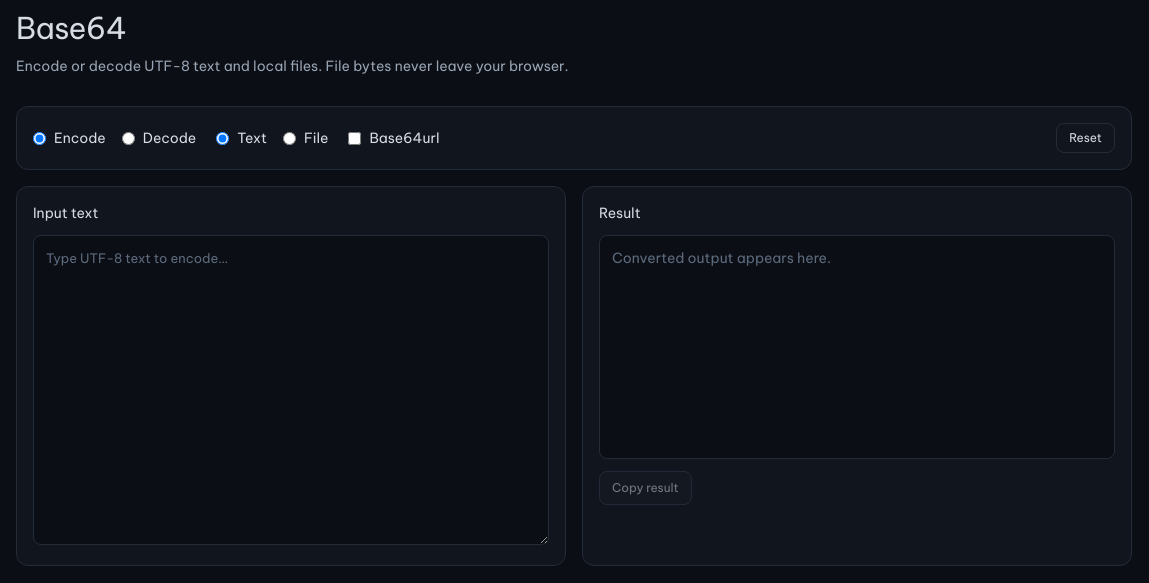
Test: Base64 tool › announces invalid text input and can reset
Click the radio button labelled "Decode".
click(128, 138)  # box [122, 132, 135, 144]
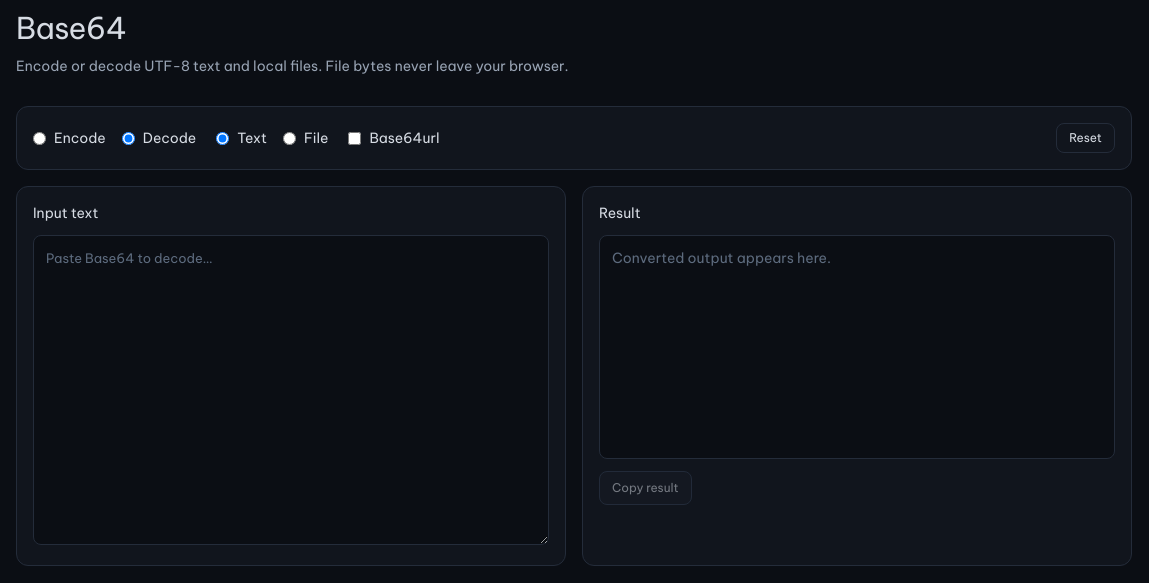
Type "%%%" into the text box named "Input text".
click(291, 390); type("%%%")  # box [33, 235, 549, 545]
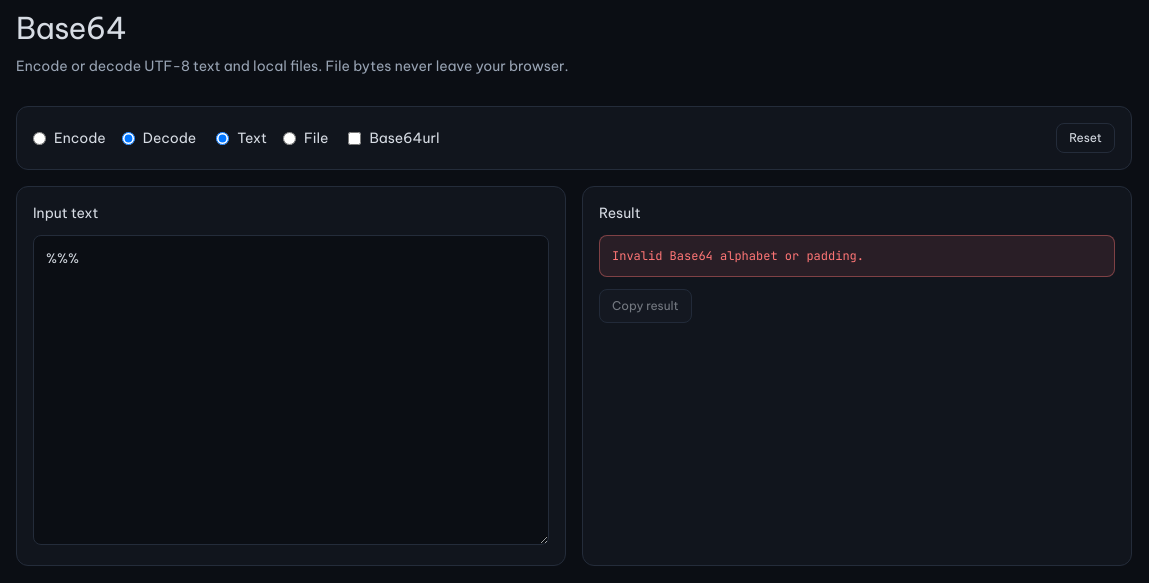
Expected: the message shows "Base64", [612, 248, 864, 264]
Click the button "Reset".
click(1086, 138)  # box [1056, 123, 1115, 153]
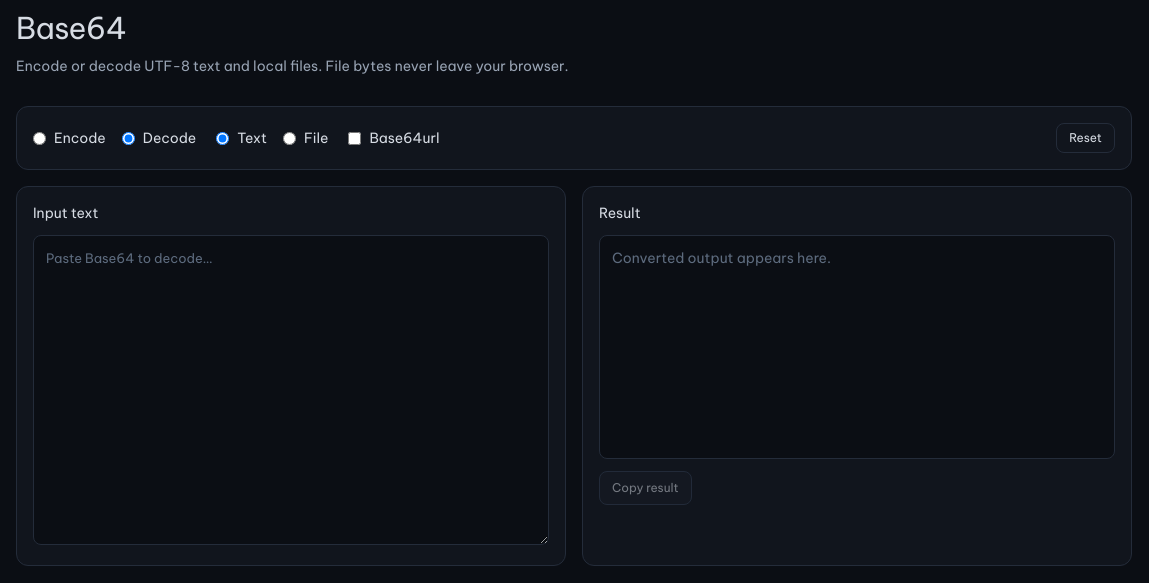
Expected: the text box named "Input text" is empty, [33, 235, 549, 545]
